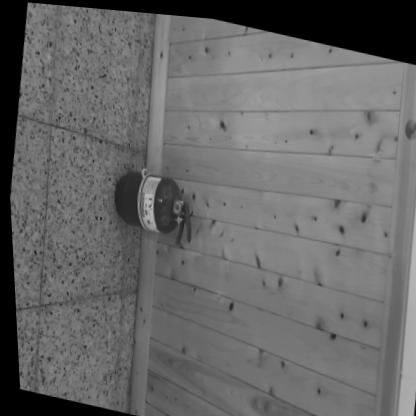FE: (106, 165, 195, 240)
